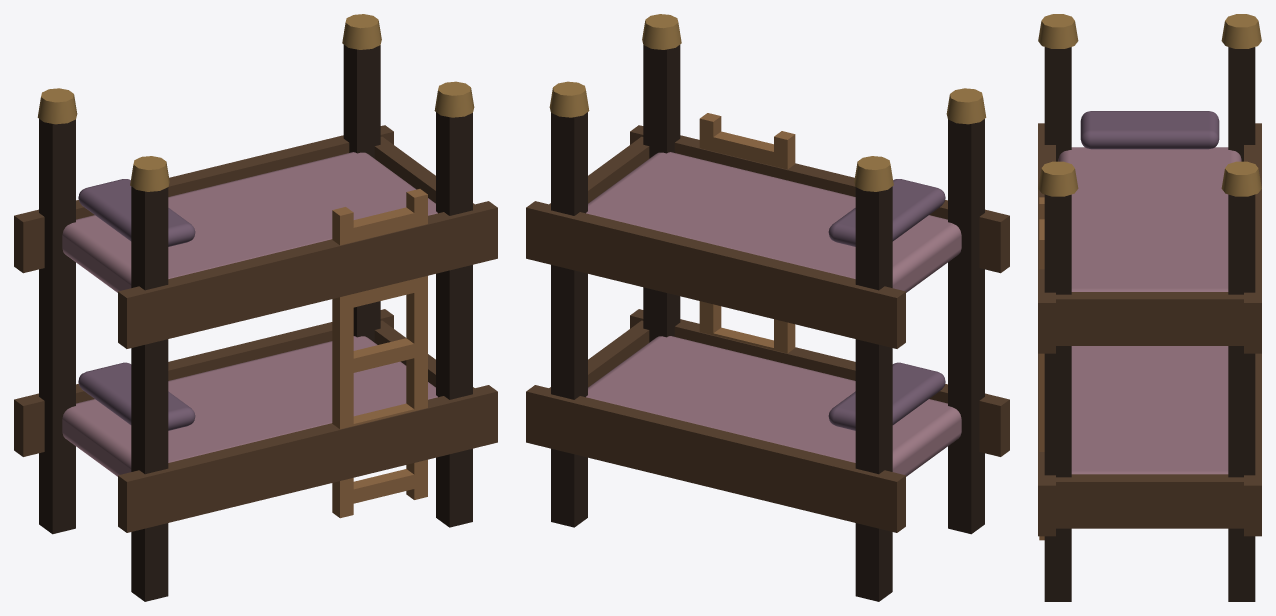
The model's file is sk_bunk_bed.glb.
3 renders of one model, left to right at view 1: azimuth 30°, elevation 25°; view 2: azimuth 150°, elevation 25°; view 3: azimuth 270°, elevation 25°, orthographic.
Visible parts, largest first — view 1: wood, cloth, metal; view 2: wood, cloth, metal; view 3: wood, cloth, metal.
Boxes of the visible parts, box(x1,y1,x2,y2) form: wood: box(14, 44, 497, 601); cloth: box(62, 152, 437, 476); metal: box(37, 14, 474, 191); wood: box(526, 44, 1009, 601); cloth: box(586, 152, 961, 476); metal: box(549, 14, 986, 191); wood: box(1038, 47, 1261, 601); cloth: box(1058, 111, 1241, 474); metal: box(1038, 14, 1261, 196).
Size of the model in its own units: 1.9 by 2.11 by 1.
